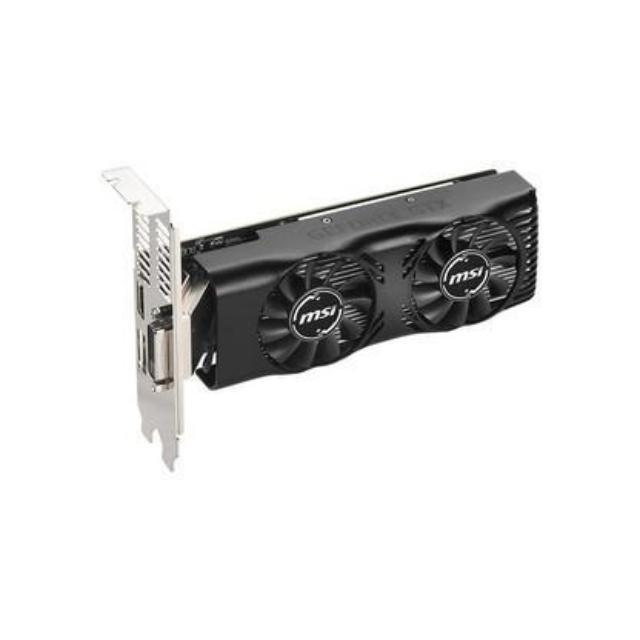GPU: (128, 167, 544, 413)
